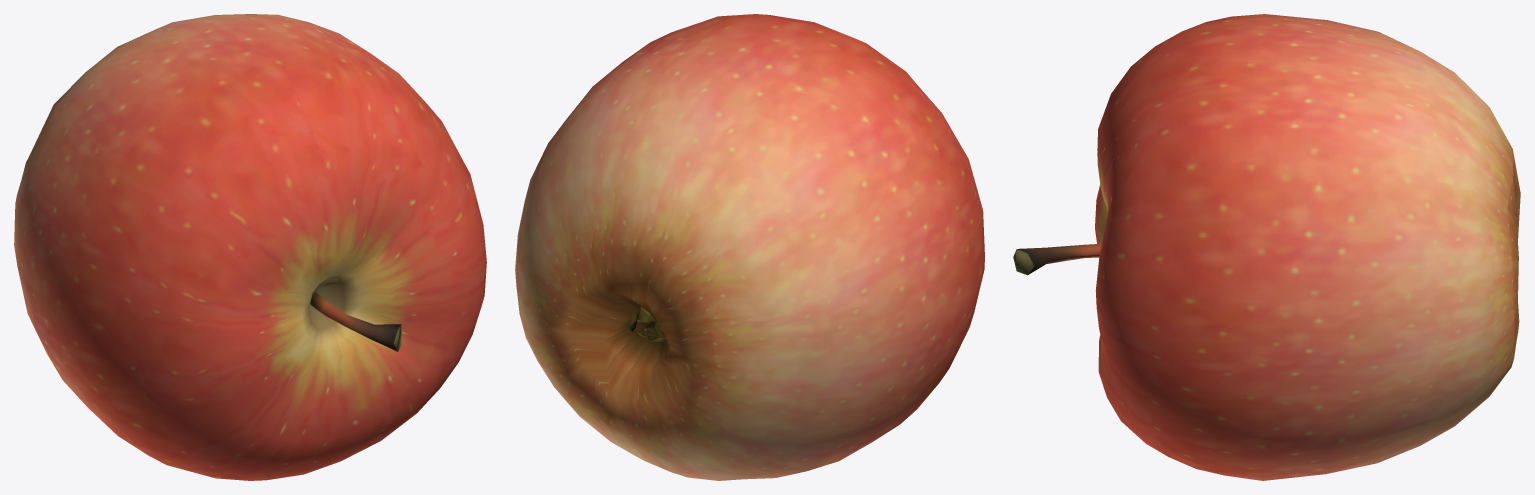
Rendered from Linemate.glb.
3 views of the same model, side by side, from view 1: azimuth 30°, elevation 25°; view 2: azimuth 150°, elevation 25°; view 3: azimuth 270°, elevation 25° (orthographic). The views are drawn at different scales.
Parts seen in each view (by area): view 1: Linemate; view 2: Linemate; view 3: Linemate.
Part boxes in pixels (bbox=[...]): Linemate: bbox=[14, 14, 486, 480]; Linemate: bbox=[515, 14, 984, 480]; Linemate: bbox=[1013, 14, 1520, 480].
Size of the model in its own units: 0.6287 by 0.6198 by 0.6793.
1 material, 1 textured.
